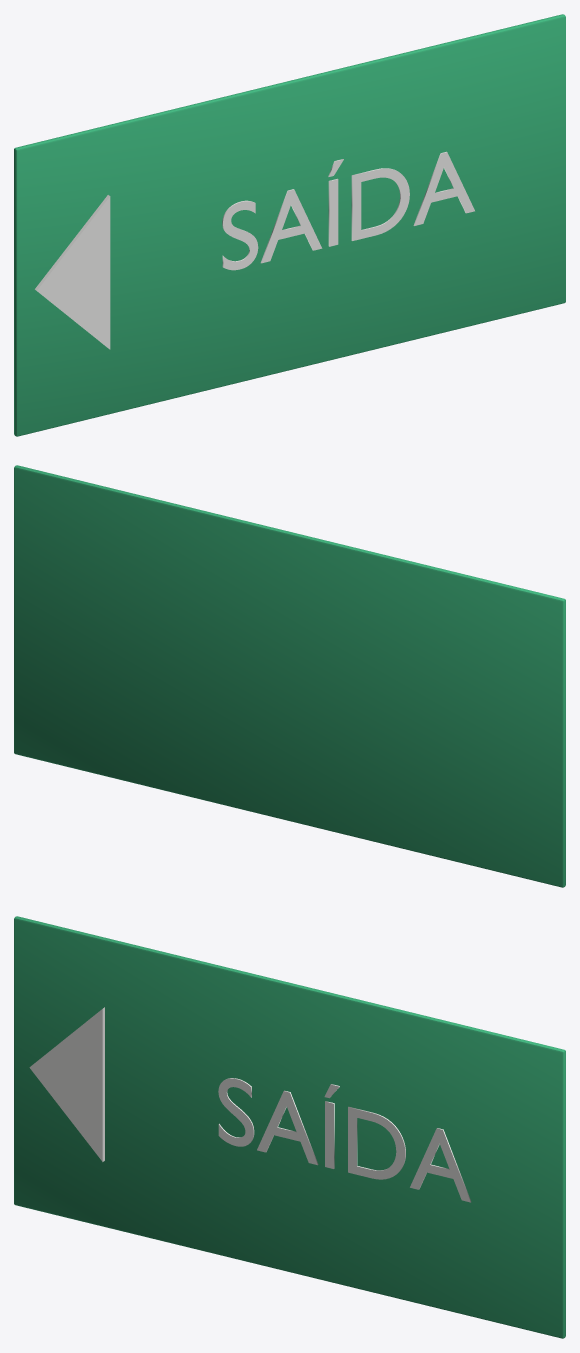
File: HID-INC-009.glb
The picture shows the model from 3 angles, top to bottom: view 1: azimuth 30°, elevation 25°; view 2: azimuth 150°, elevation 25°; view 3: azimuth 330°, elevation 25°; orthographic projection.
Parts seen in each view (by area): view 1: HID-INC-009_placa, HID-INC-009_texto, HID-INC-009_seta; view 2: HID-INC-009_placa; view 3: HID-INC-009_placa, HID-INC-009_texto, HID-INC-009_seta.
Part boxes in pixels (box(x1,y1,x2,y2)): HID-INC-009_placa: box(14, 14, 565, 436); HID-INC-009_texto: box(222, 151, 474, 270); HID-INC-009_seta: box(35, 195, 110, 349); HID-INC-009_placa: box(14, 465, 565, 887); HID-INC-009_placa: box(14, 916, 565, 1338); HID-INC-009_texto: box(218, 1078, 471, 1202); HID-INC-009_seta: box(29, 1007, 104, 1161).
Size of the model in its own units: 0.3 by 0.15 by 0.005.
